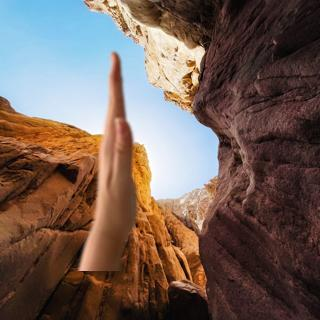Right: (75, 48, 163, 263)
